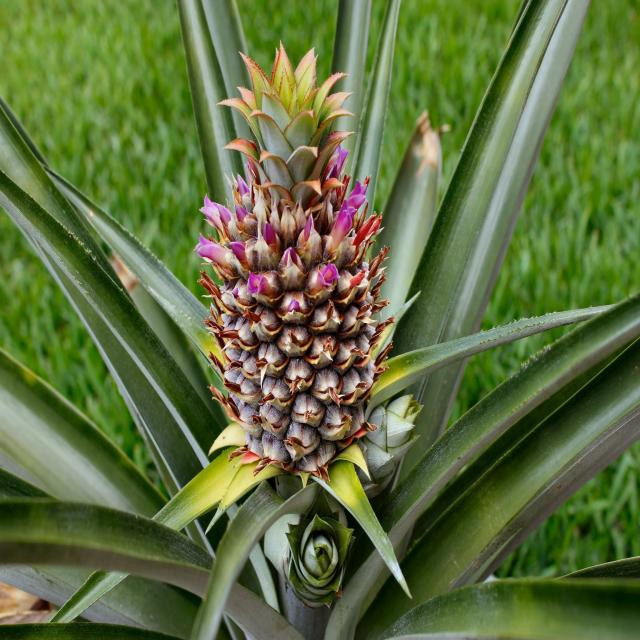Pineapple: (202, 114, 381, 467)
